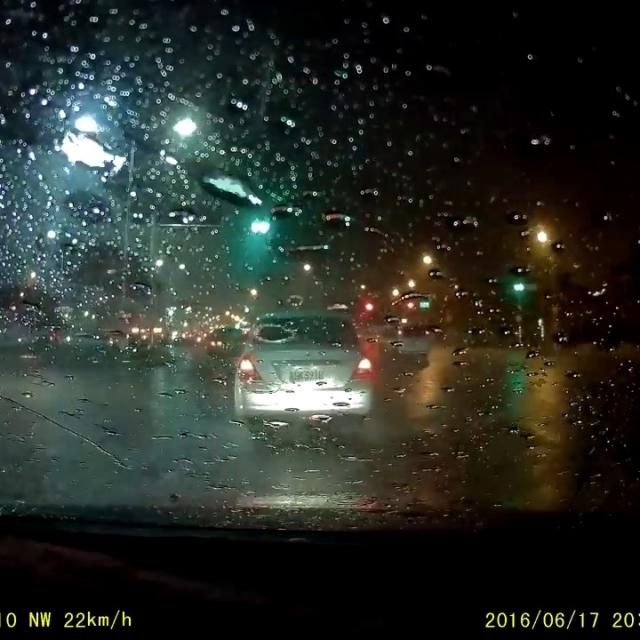Car: (228, 307, 373, 427), (368, 320, 433, 356), (202, 323, 243, 352)
